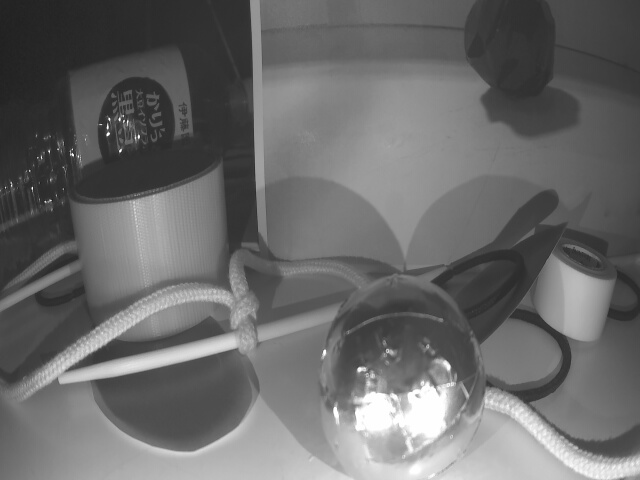Live: (316, 275, 483, 480)
